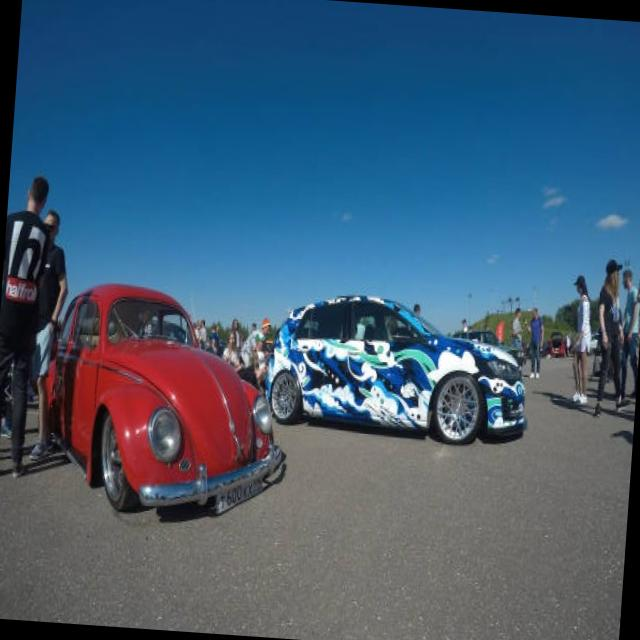car: (39, 282, 293, 508), (266, 286, 520, 429)
